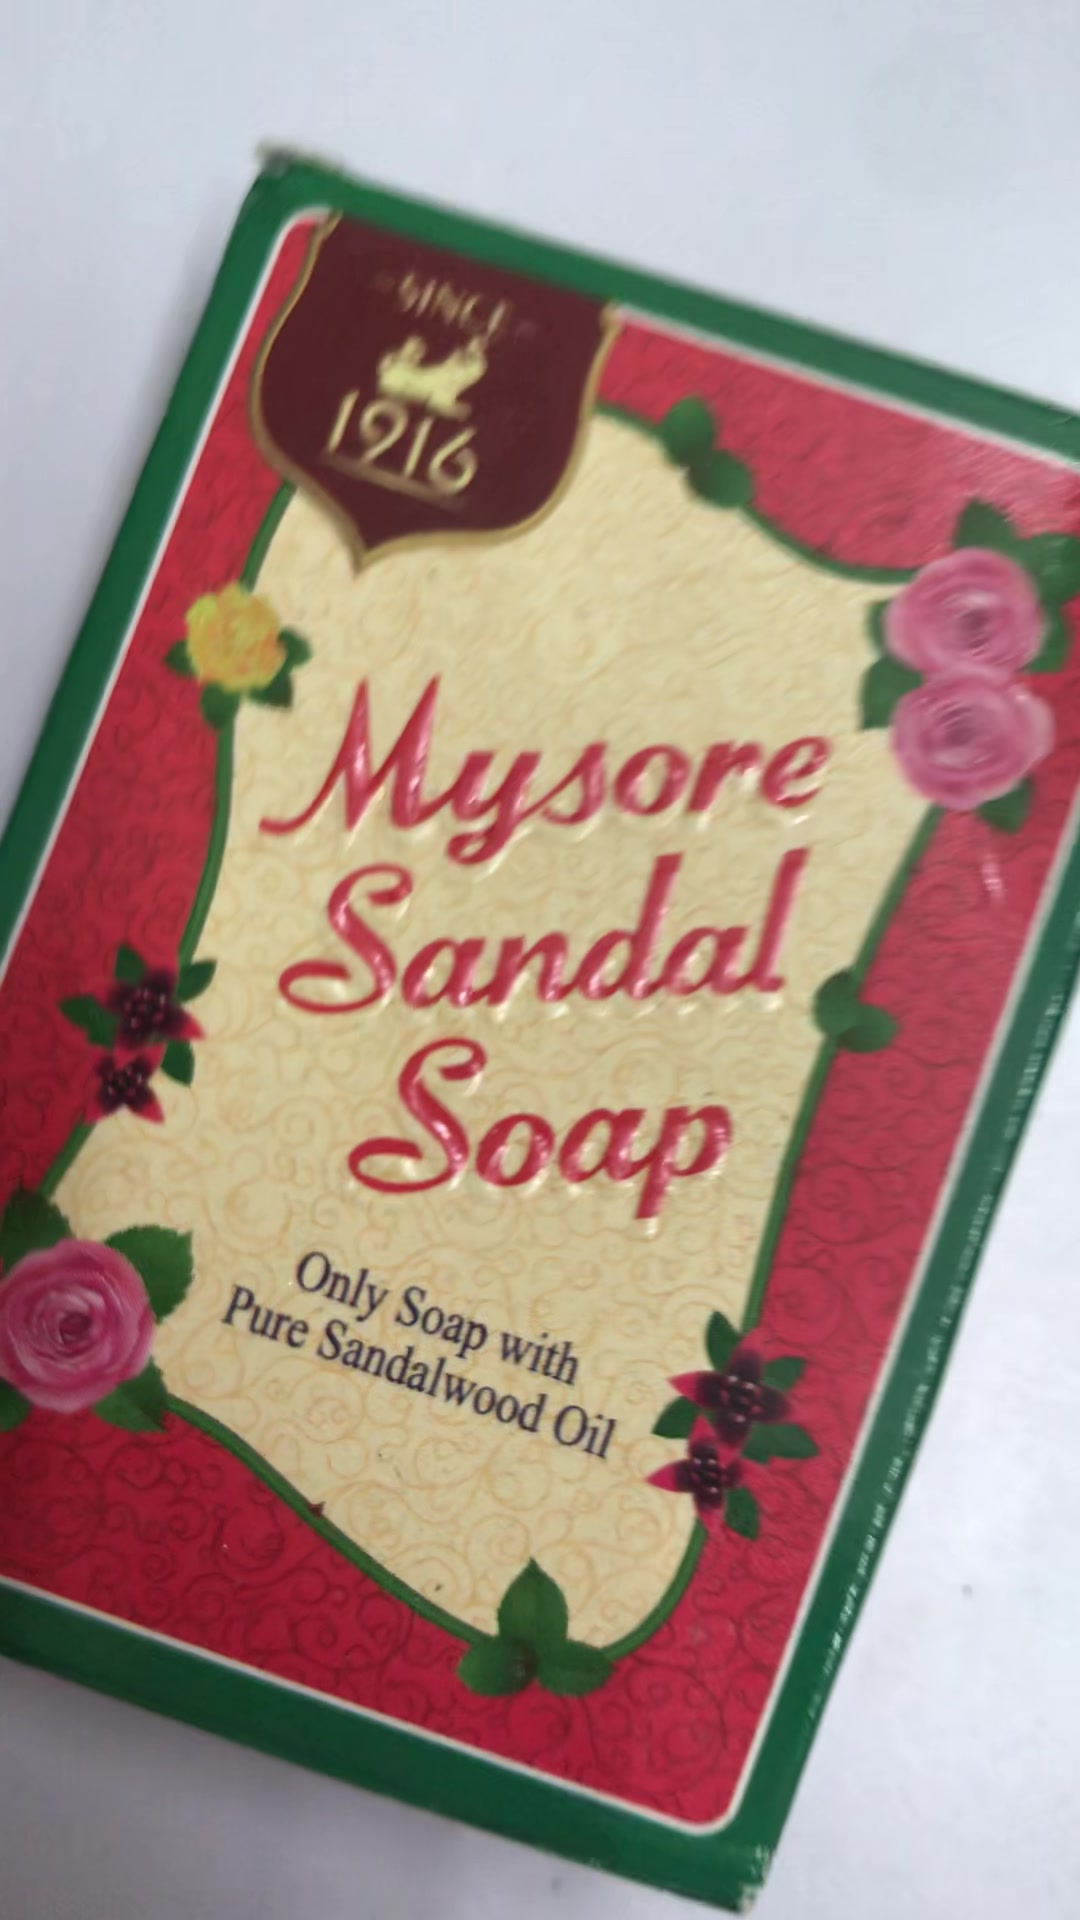mysore sandal soap: (1, 156, 1073, 1913)
